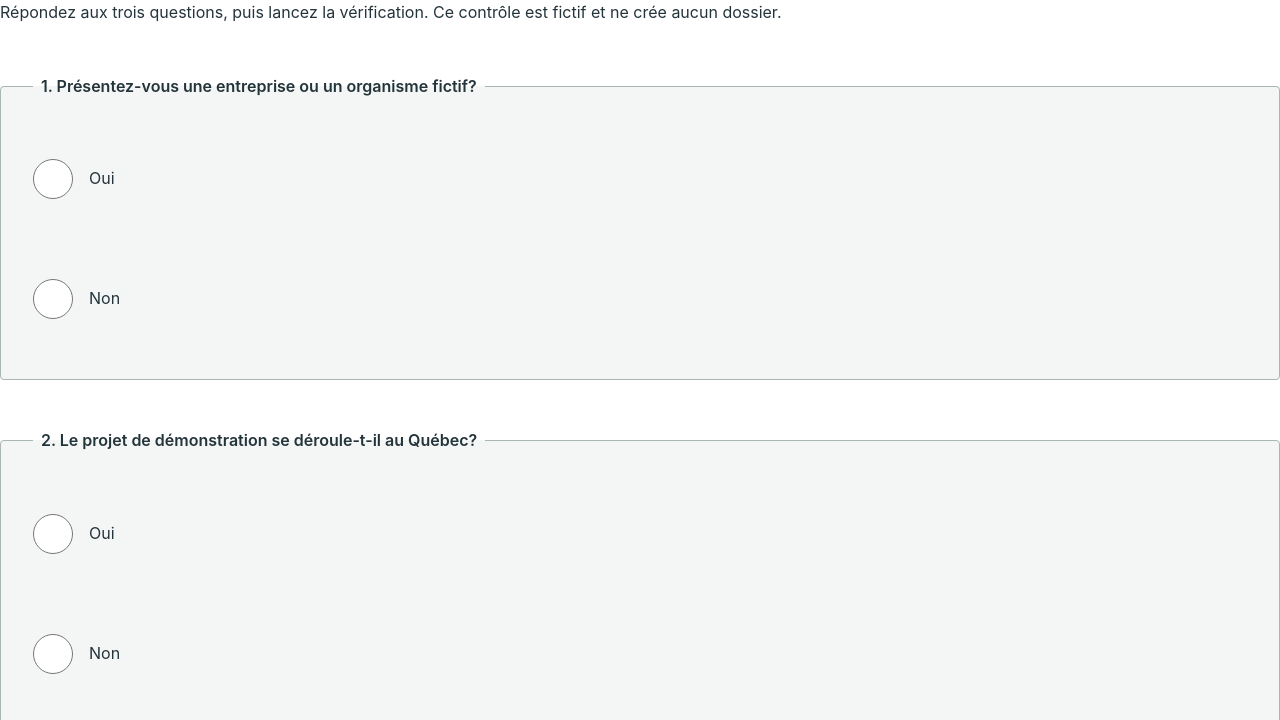
VerificateurAdmissibilite › explique un résultat inadmissible sans proposer de créer un brouillon
Click the 1st radio button labelled "Non".
click(53, 299)  # box [33, 279, 73, 319]
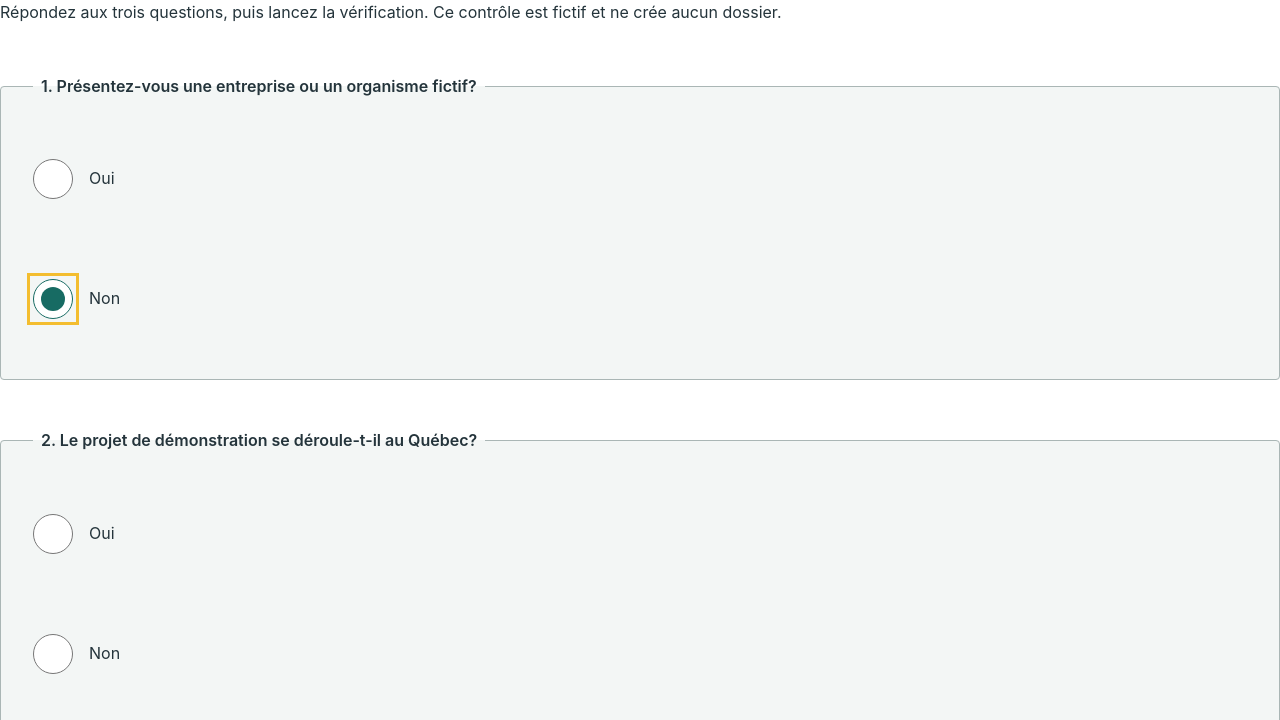
Click the 2nd radio button labelled "Non".
click(53, 654)  # box [33, 634, 73, 674]
(page scrolled)
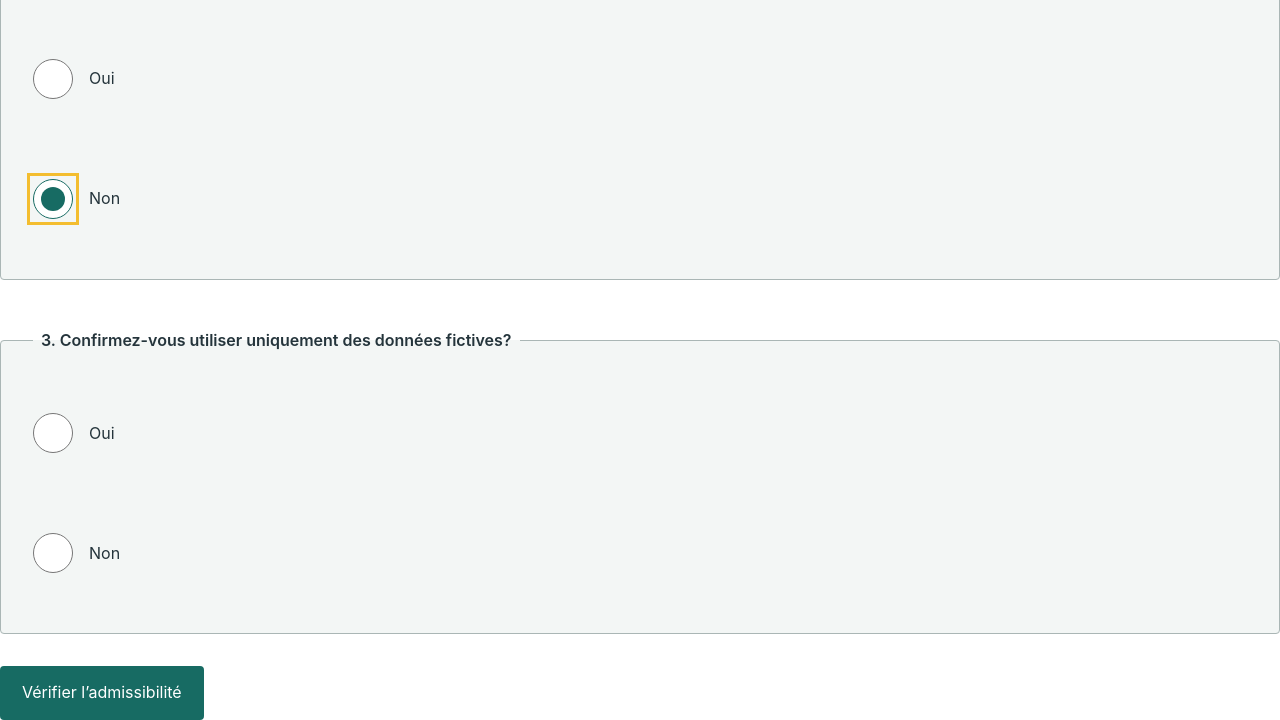
Click the 2nd radio button labelled "Non".
click(53, 553)  # box [33, 533, 73, 573]
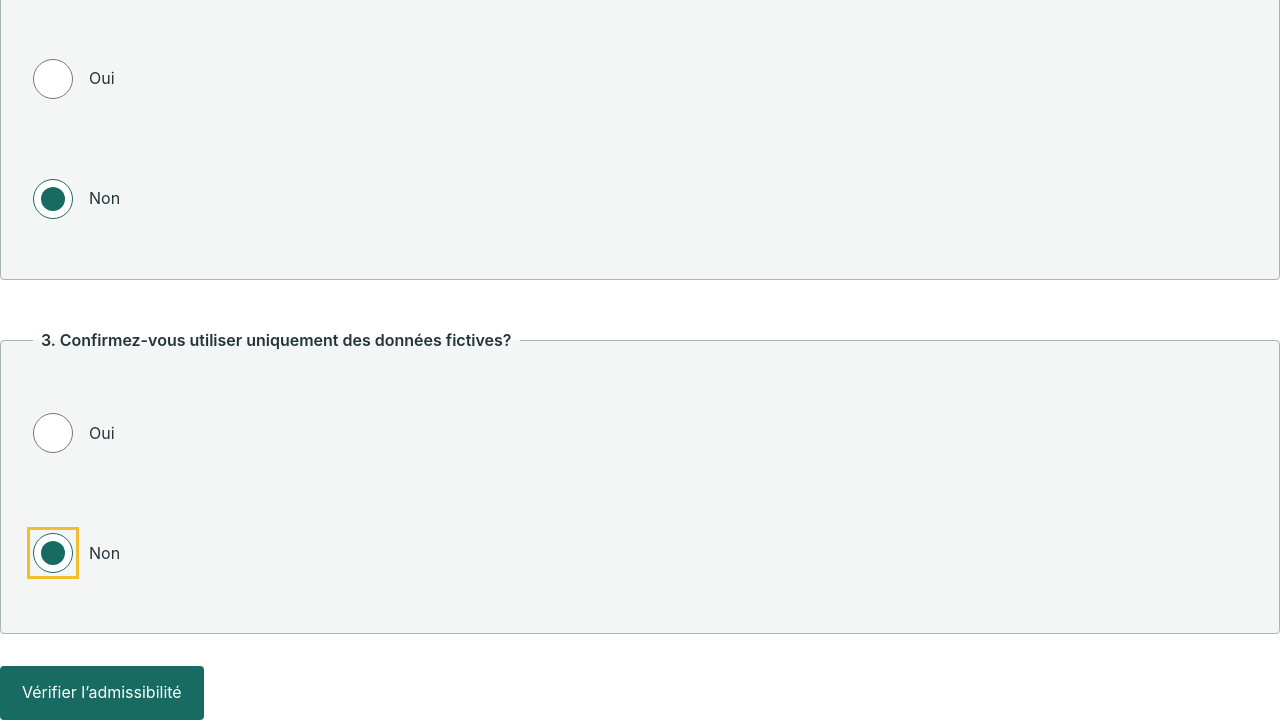
Click the button "Vérifier l’admissibilité".
click(102, 693)  # box [0, 666, 204, 719]
(page scrolled)
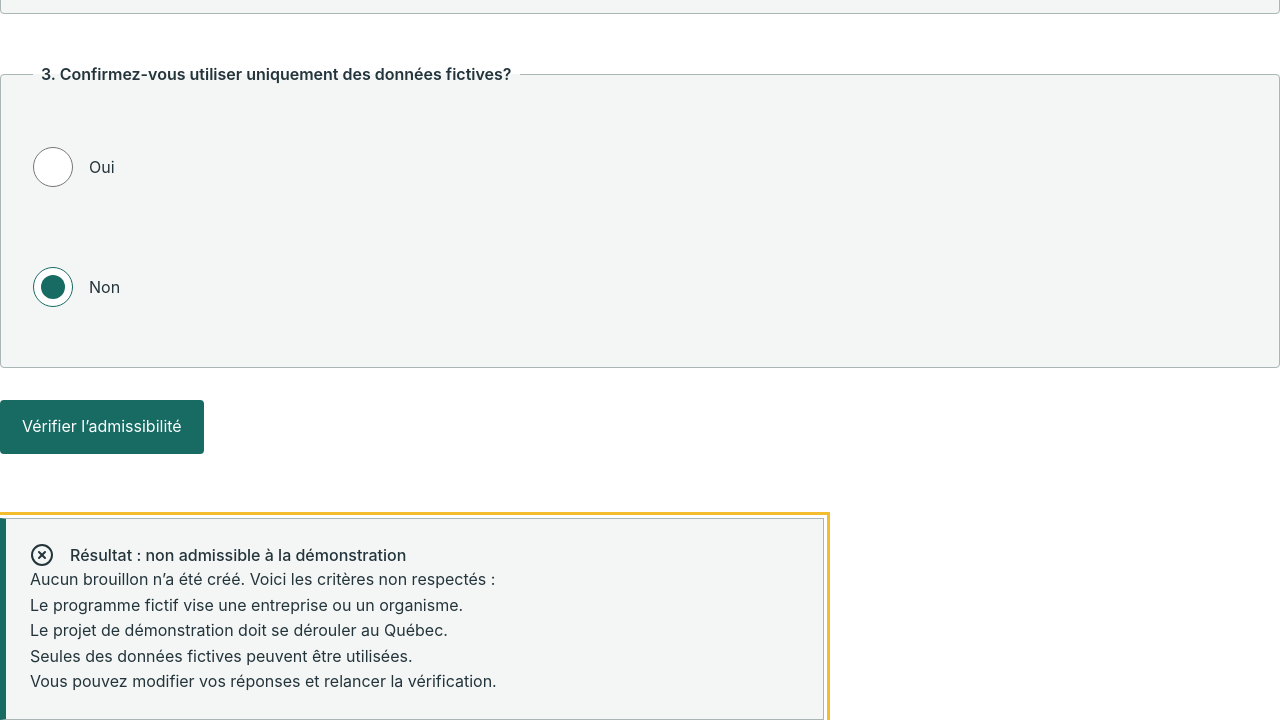
Result: the message shows "non admissible" at [70, 545, 406, 565]
Result: the message shows "Aucun brouillon n’a été créé" at [30, 569, 495, 589]
